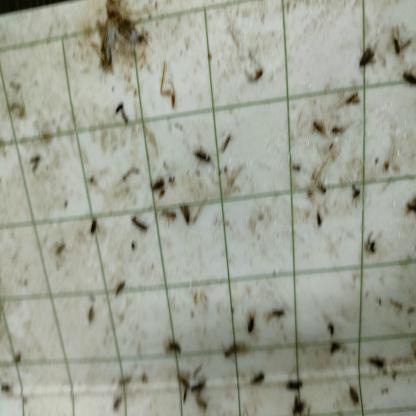prays_oleae: (355, 38, 380, 75), (243, 305, 262, 345), (366, 347, 388, 381), (189, 372, 209, 407), (361, 226, 379, 263), (167, 336, 186, 368), (247, 368, 266, 395), (282, 370, 304, 393), (391, 25, 407, 56), (112, 275, 130, 302), (180, 199, 194, 233), (399, 66, 416, 94), (347, 379, 363, 408), (177, 369, 194, 396), (348, 180, 362, 208), (130, 217, 148, 237), (161, 207, 178, 228), (195, 146, 211, 167), (85, 215, 99, 236)
